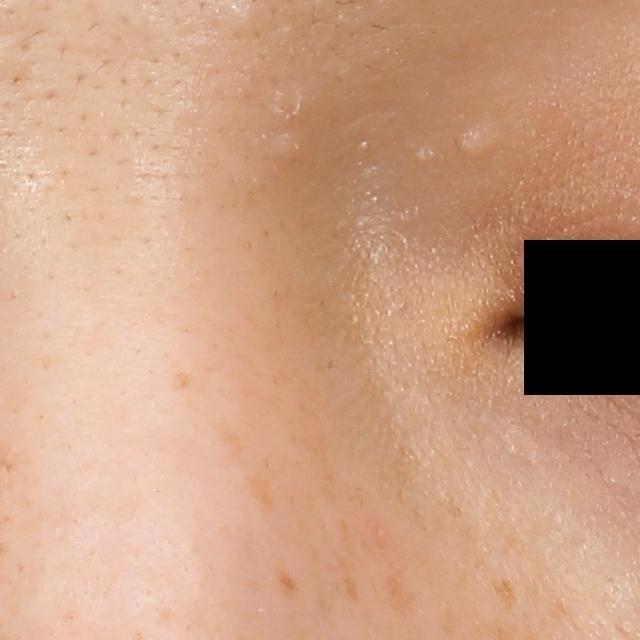melasma: (210, 419, 250, 473), (384, 573, 421, 612), (339, 556, 365, 602), (489, 576, 519, 607), (277, 562, 302, 595)
other: (462, 120, 507, 158), (411, 142, 451, 169)
